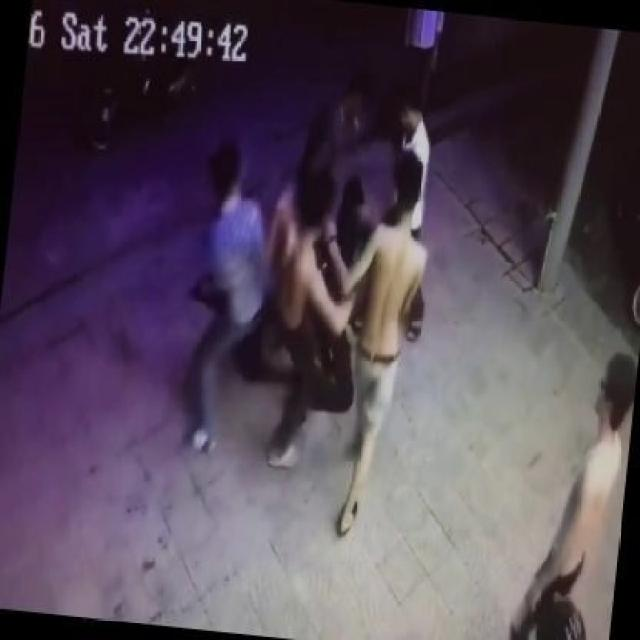fight: (142, 153, 432, 526)
non-fight: (468, 330, 635, 638)
